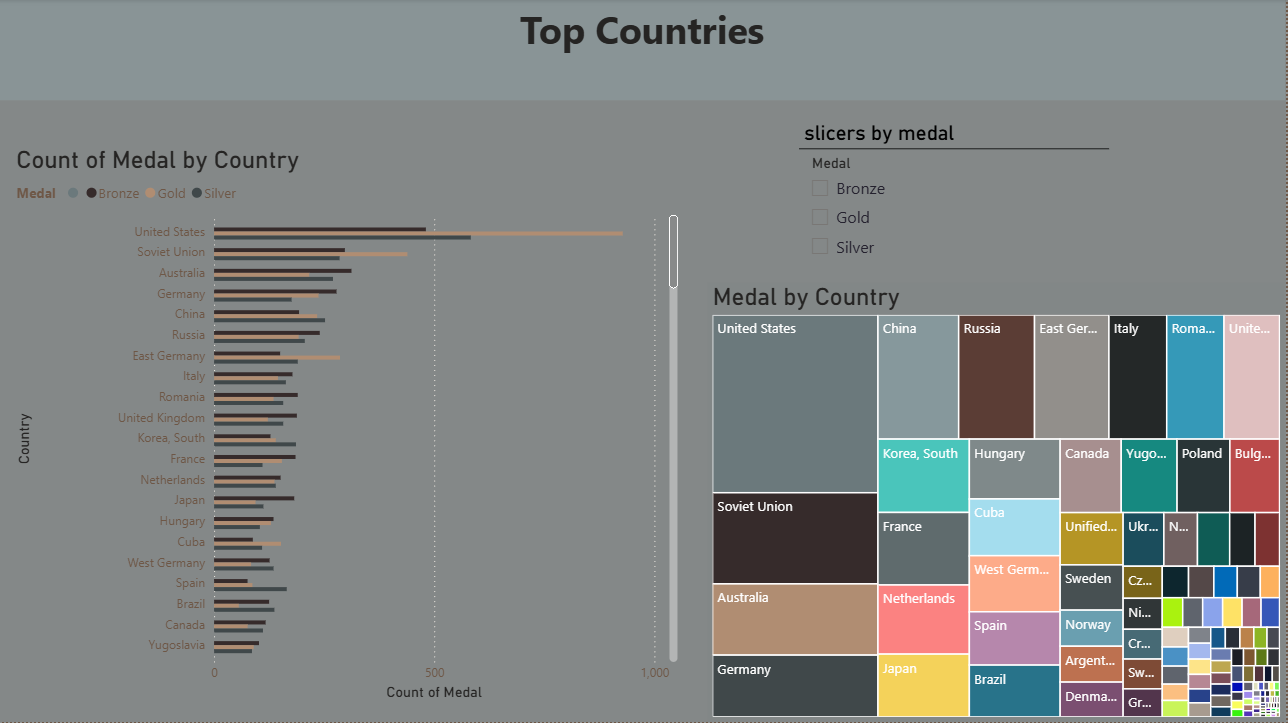

What the dashboard file says about the page in this screenshot:
{"tool":"powerbi","page":{"name":"Page 3","canvas":[1280,720],"ordinal":2},"visuals":[{"type":"textbox","box":[0,0,1280,100.8],"z":0},{"type":"clusteredBarChart","title":"Count of Medal  by Country ","fields":{"Category":["summer_olympic.Country"],"Y":["CountNonNull(summer_olympic.Medal )"],"Series":["summer_olympic.Medal "]},"box":[13,145.7,668,556.9],"z":1000},{"type":"treemap","title":" Medal  by Country","fields":{"Group":["summer_olympic.Country"],"Values":["CountNonNull(summer_olympic.Medal )"]},"box":[705.5,282.8,574.2,437.2],"z":2000},{"type":"slicer","title":"slicers by medal","fields":{"Values":["summer_olympic.Medal "]},"box":[796.4,121.2,308.8,148.6],"z":3000}]}

Visuals, with their boxes in screenshot pixels (x1, y1, x2, y2), scaled from the page's 1280x720 canvas onto the 1288x723 screenshot:
textbox: x1=0, y1=0, x2=1287, y2=101
"Count of Medal  by Country " clusteredBarChart: x1=13, y1=146, x2=685, y2=706
" Medal  by Country" treemap: x1=710, y1=284, x2=1287, y2=722
"slicers by medal" slicer: x1=801, y1=122, x2=1112, y2=271
